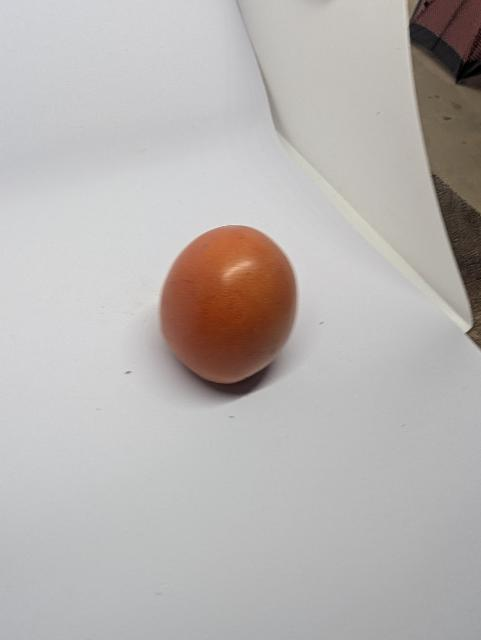red: (151, 220, 309, 403)
